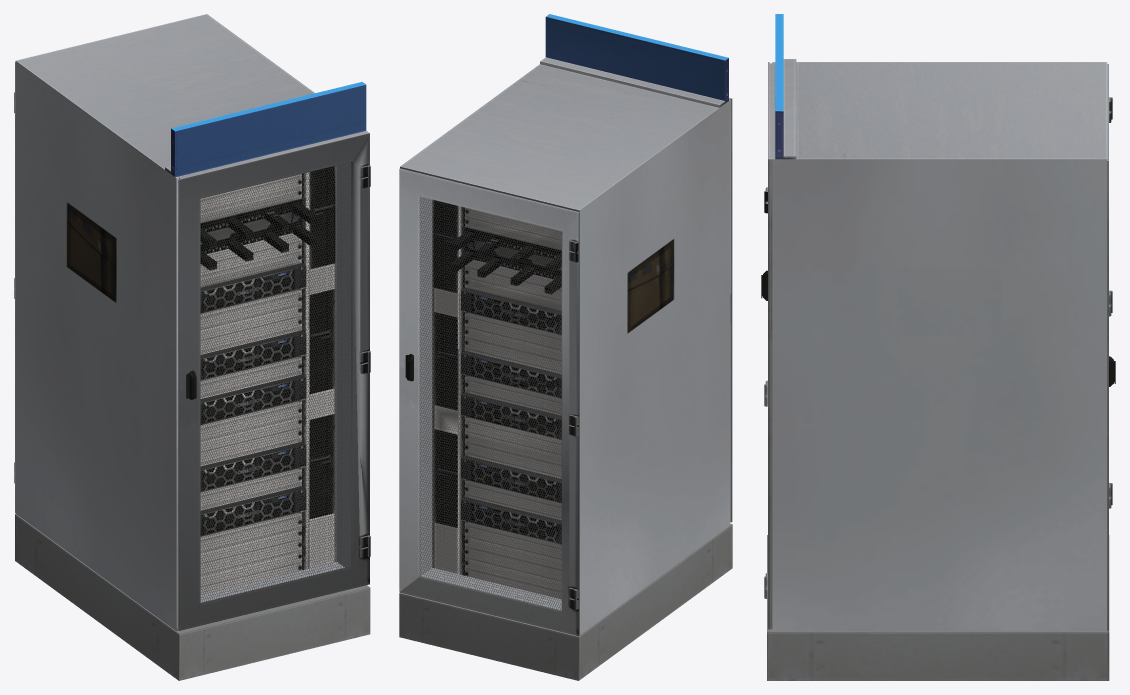
The model's file is SET8A_all_bluebox_121401.obj.
3 views of the same model, side by side, from view 1: azimuth 30°, elevation 25°; view 2: azimuth 150°, elevation 25°; view 3: azimuth 270°, elevation 25° (orthographic). The views are drawn at different scales.
Visible parts, largest first — view 1: SET8A_all; view 2: SET8A_all; view 3: SET8A_all.
Part boxes in pixels (box(x1,y1,x2,y2)): SET8A_all: box(14, 14, 370, 680); SET8A_all: box(399, 14, 732, 680); SET8A_all: box(761, 14, 1115, 680).
Bounding box in the file's own units: 0.8 × 2.18 × 1.23.
